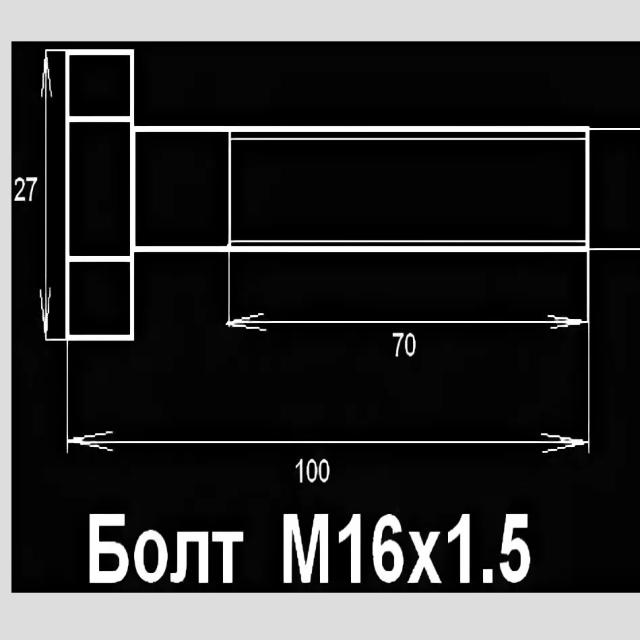marking_line: (67, 430, 586, 451), (230, 312, 587, 332), (35, 54, 53, 335)
numeric: (495, 502, 530, 593), (442, 511, 474, 587), (336, 507, 365, 586), (372, 513, 403, 583), (292, 452, 333, 482), (390, 326, 419, 360), (15, 173, 36, 205)
